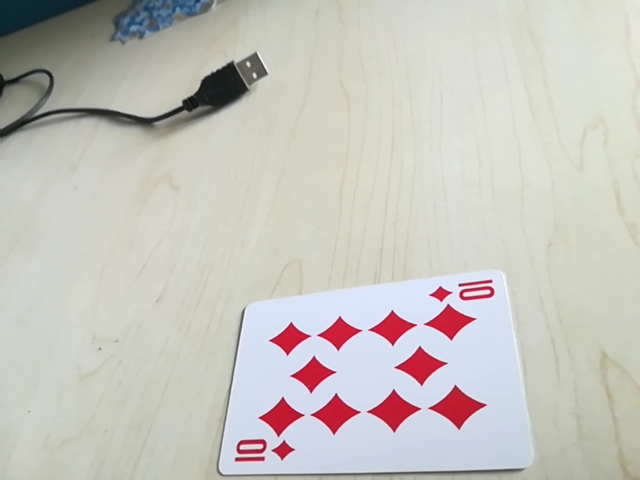fk 10: (427, 273, 502, 307), (230, 437, 296, 470)
